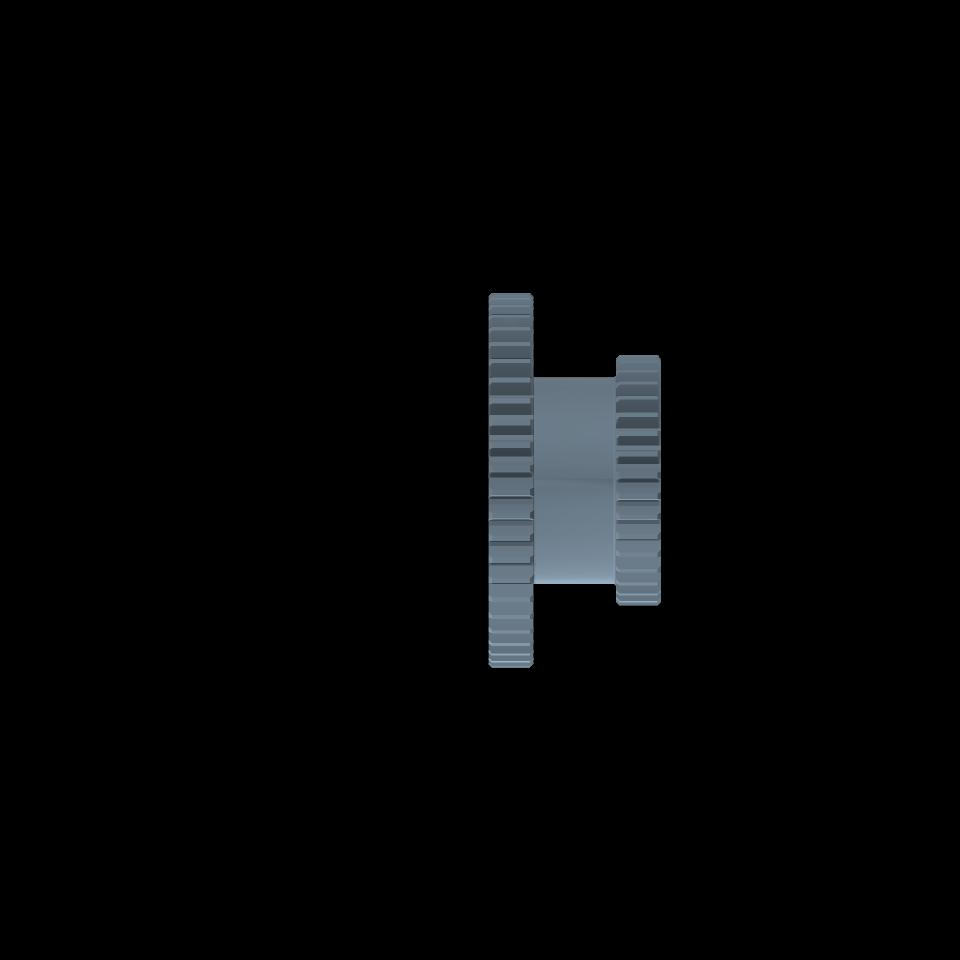Straight: (493, 292, 529, 666), (621, 355, 657, 605)
